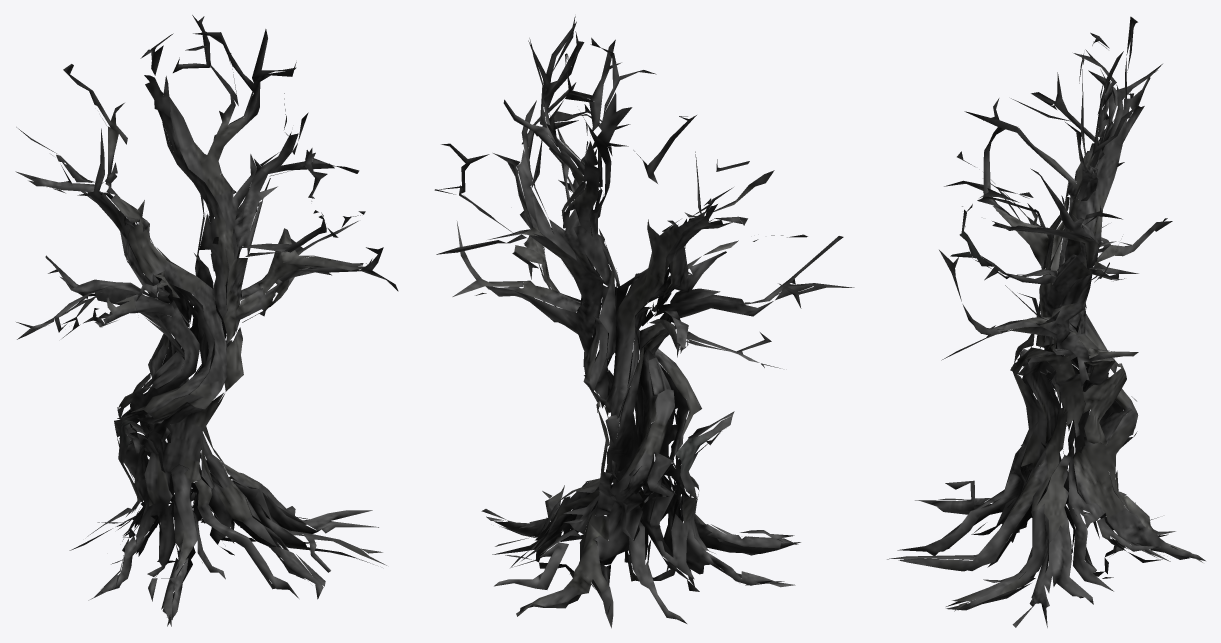
File: arvore_brasa_morta.glb
3 renders of one model, left to right at view 1: azimuth 30°, elevation 25°; view 2: azimuth 150°, elevation 25°; view 3: azimuth 270°, elevation 25°, orthographic. The views are drawn at different scales.
Visible parts, largest first — view 1: geometry_0.037; view 2: geometry_0.037; view 3: geometry_0.037.
Part boxes in pixels (x1,y1,x2,y2): geometry_0.037: (15, 15, 398, 626); geometry_0.037: (434, 16, 854, 628); geometry_0.037: (887, 16, 1205, 627).
Size of the model in its own units: 0.6409 by 0.8807 by 0.4901.
Materials: 1 (1 with a texture image).
